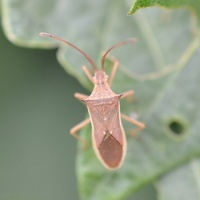insect: (39, 32, 135, 169)
